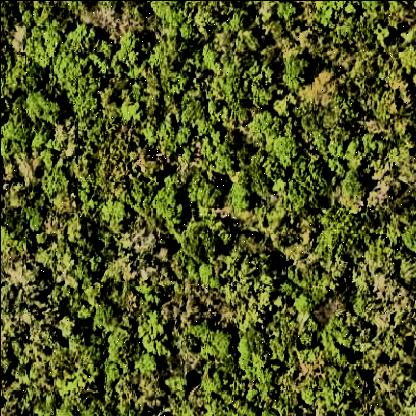tree-top: (215, 253, 278, 319), (313, 208, 375, 262), (2, 198, 47, 254), (130, 309, 175, 361), (196, 131, 244, 179), (46, 54, 94, 102), (144, 182, 188, 234), (232, 323, 276, 368), (35, 160, 76, 208), (182, 177, 226, 219), (262, 129, 304, 171), (144, 34, 187, 74), (19, 91, 64, 129), (193, 325, 235, 365), (331, 168, 371, 210), (242, 111, 285, 149), (60, 86, 101, 125), (279, 54, 314, 93), (100, 199, 134, 234), (223, 183, 255, 217)
